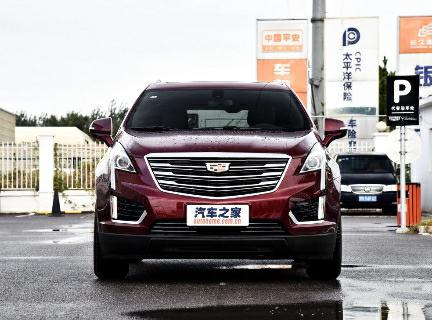凯迪拉克-XT5: (86, 78, 349, 293)
